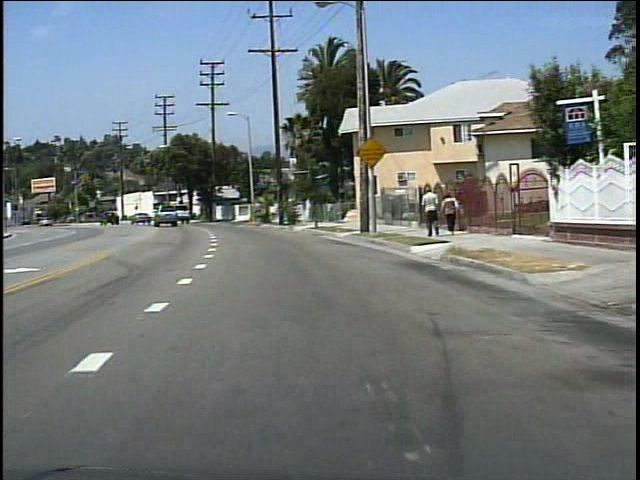person: (417, 184, 439, 241), (439, 189, 462, 235)
